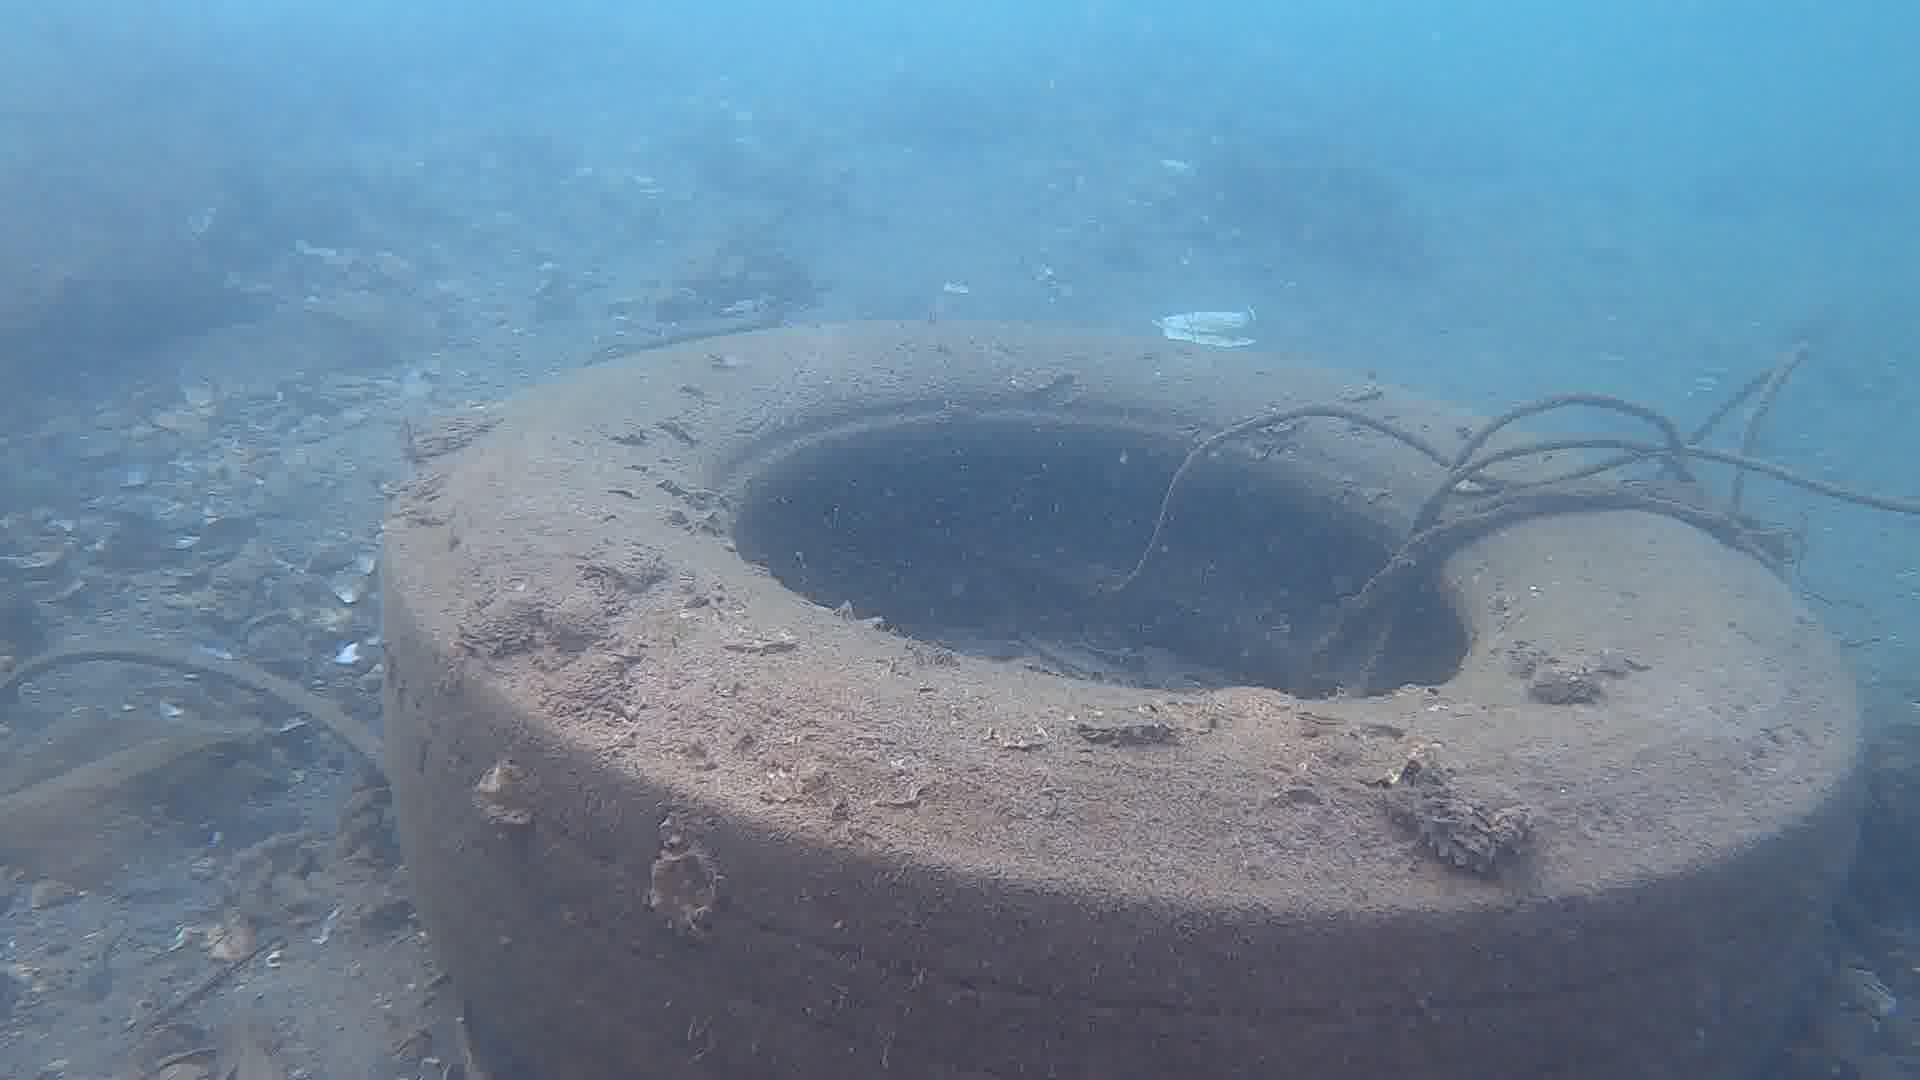bundle of ropes: (1110, 338, 1920, 676)
tire: (377, 318, 1870, 1080)
